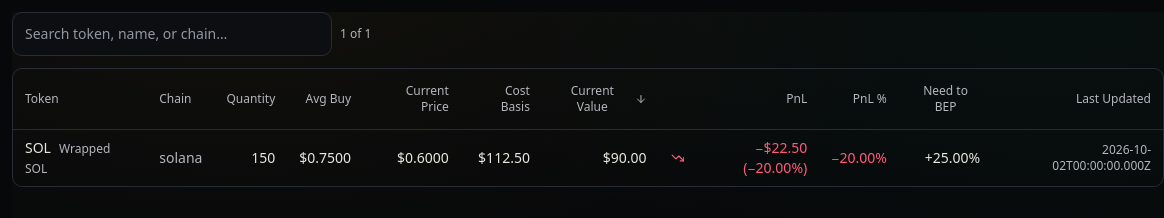
Test: PositionsTable › shows no-match message for empty filter
Type "zzz-no-match" into the search field named "Search positions".
click(172, 34); type("zzz-no-match")  # box [12,12,332,56]
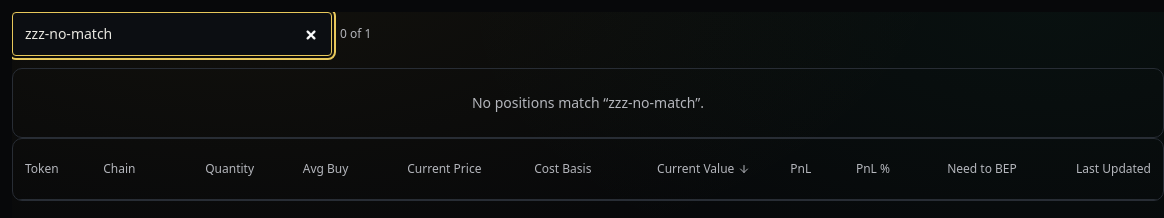
Expected: the text "No positions match “zzz-no-match”." is shown, [12,68,1163,138]
